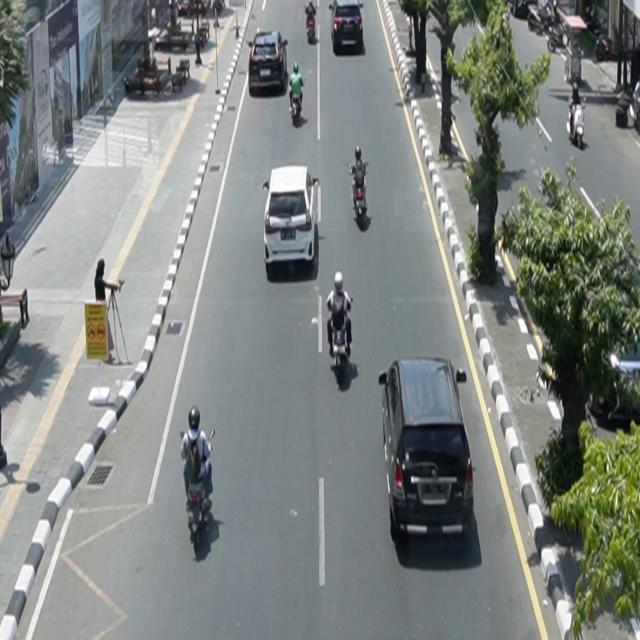car: (379, 357, 475, 542), (263, 165, 320, 269), (249, 29, 289, 97), (329, 1, 364, 54)
